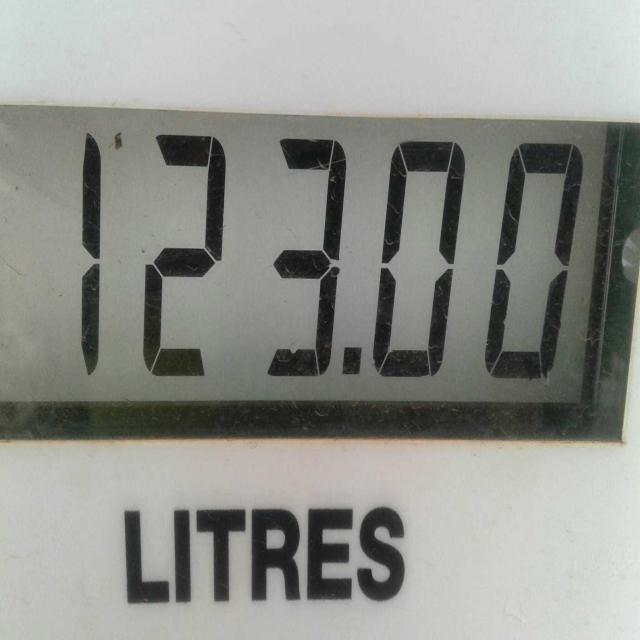.: (329, 326, 371, 396)
0: (362, 127, 472, 382), (477, 132, 580, 402)
1: (58, 125, 124, 394)
2: (134, 122, 253, 379)
3: (253, 118, 352, 393)
